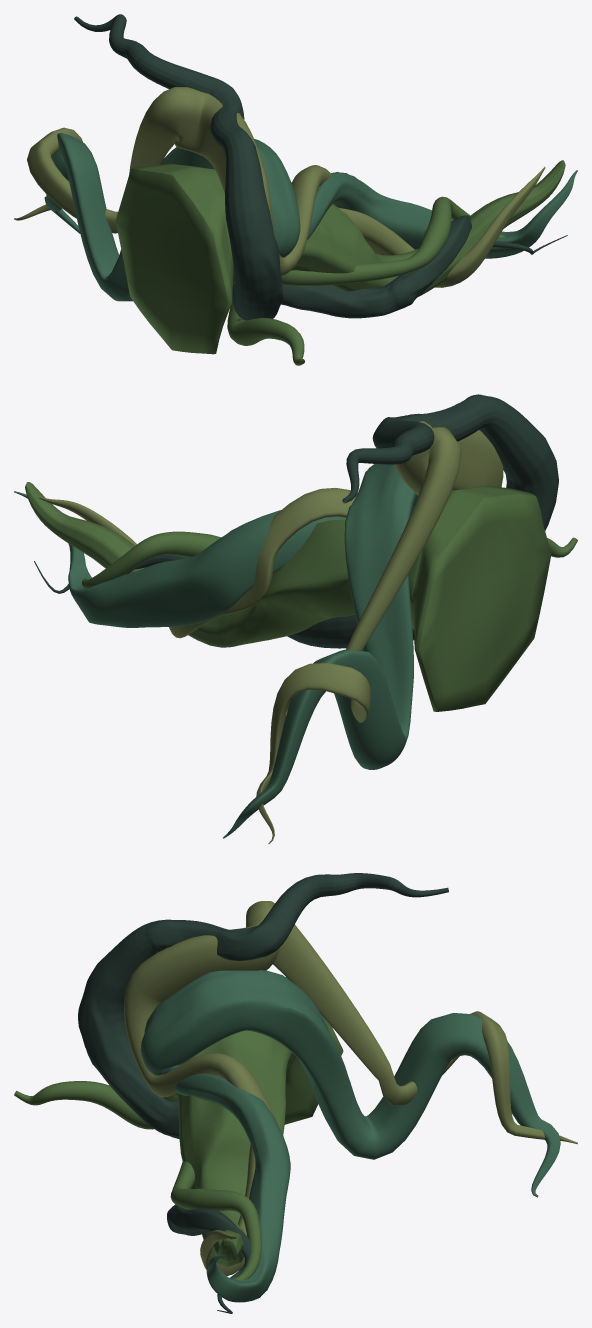
Rendered from vine.fbx.
3 views of the same model, one above another, from view 1: azimuth 30°, elevation 25°; view 2: azimuth 150°, elevation 25°; view 3: azimuth 270°, elevation 25° (orthographic). The views are drawn at different scales.
Visible parts, largest first — view 1: TRUNK1, TRUNK1-2, TRUNK1-1, TRUNK1-4, TRUNK-3; view 2: TRUNK1, TRUNK1-1, TRUNK1-4, TRUNK1-2, TRUNK-3; view 3: TRUNK1-1, TRUNK1-4, TRUNK1-2, TRUNK1, TRUNK-3.
Part boxes in pixels (left/top/right/bottom): TRUNK1: left=115, top=160, right=565, bottom=354; TRUNK1-2: left=74, top=14, right=567, bottom=320; TRUNK1-1: left=44, top=133, right=577, bottom=301; TRUNK1-4: left=14, top=87, right=545, bottom=287; TRUNK-3: left=227, top=196, right=519, bottom=365; TRUNK1: left=25, top=482, right=551, bottom=711; TRUNK1-1: left=14, top=464, right=418, bottom=838; TRUNK1-4: left=39, top=421, right=503, bottom=843; TRUNK1-2: left=34, top=394, right=558, bottom=648; TRUNK-3: left=82, top=531, right=577, bottom=587; TRUNK1-1: left=140, top=970, right=560, bottom=1302; TRUNK1-4: left=124, top=901, right=577, bottom=1275; TRUNK1-2: left=78, top=873, right=448, bottom=1313; TRUNK1: left=177, top=977, right=343, bottom=1266; TRUNK-3: left=14, top=1081, right=261, bottom=1280.
Size of the model in its own units: 896 by 587 by 1009.
